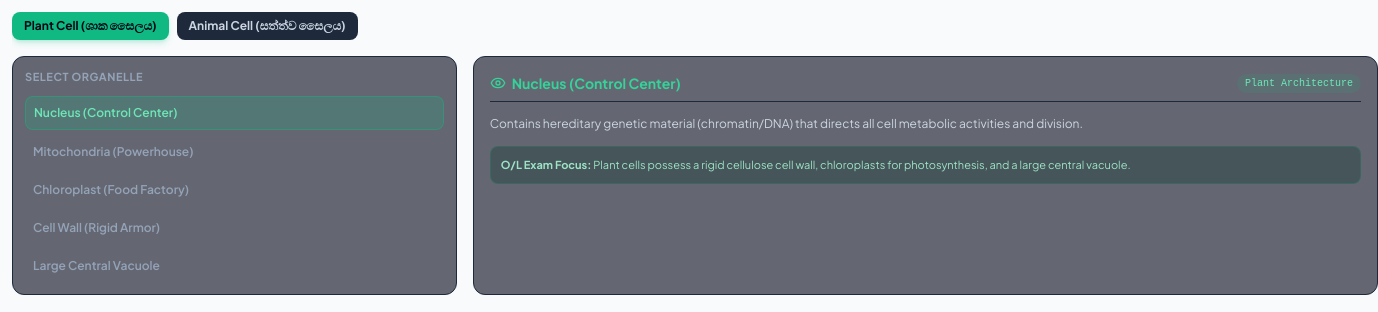
it: CellExplorer › shows organelle details and updates on selection
Click the button with test id "organelle-mitochondria": [113, 151] box [25,136,444,168]
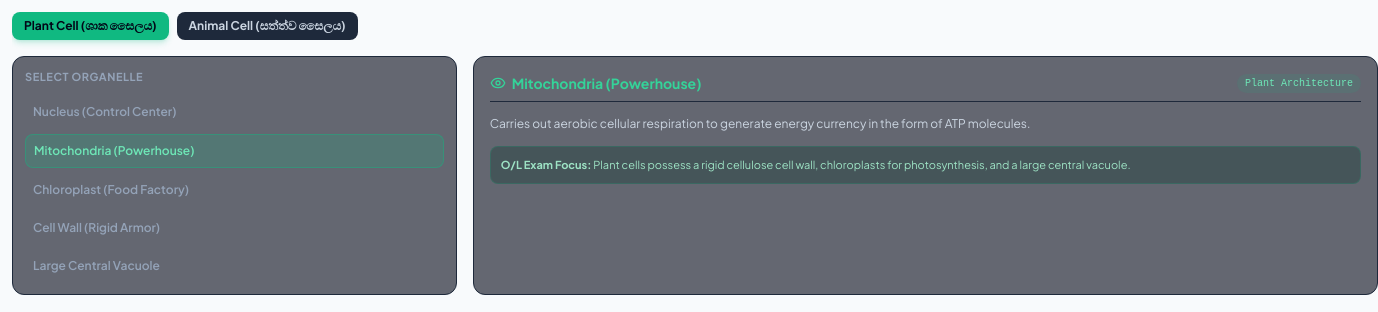
Expected: the element with test id "organelle-inspector" shows "ATP", [490,116,1030,131]
